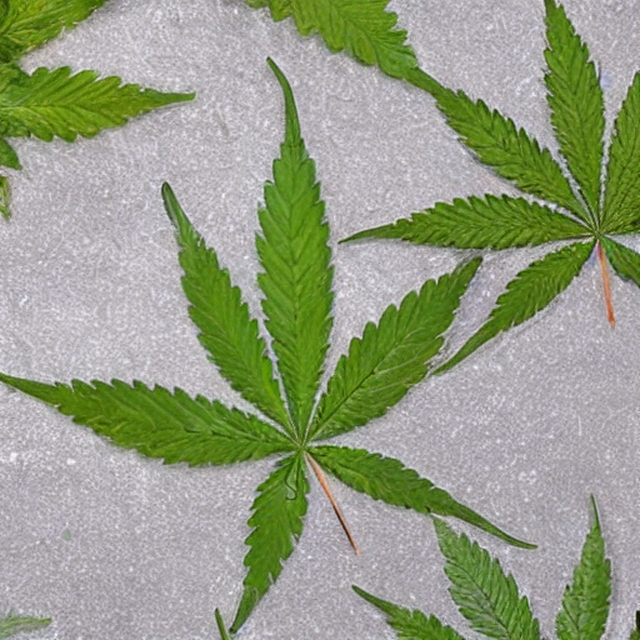Marijuana Leaf: (0, 54, 540, 639), (334, 0, 640, 377), (0, 0, 196, 223), (350, 491, 624, 640)
